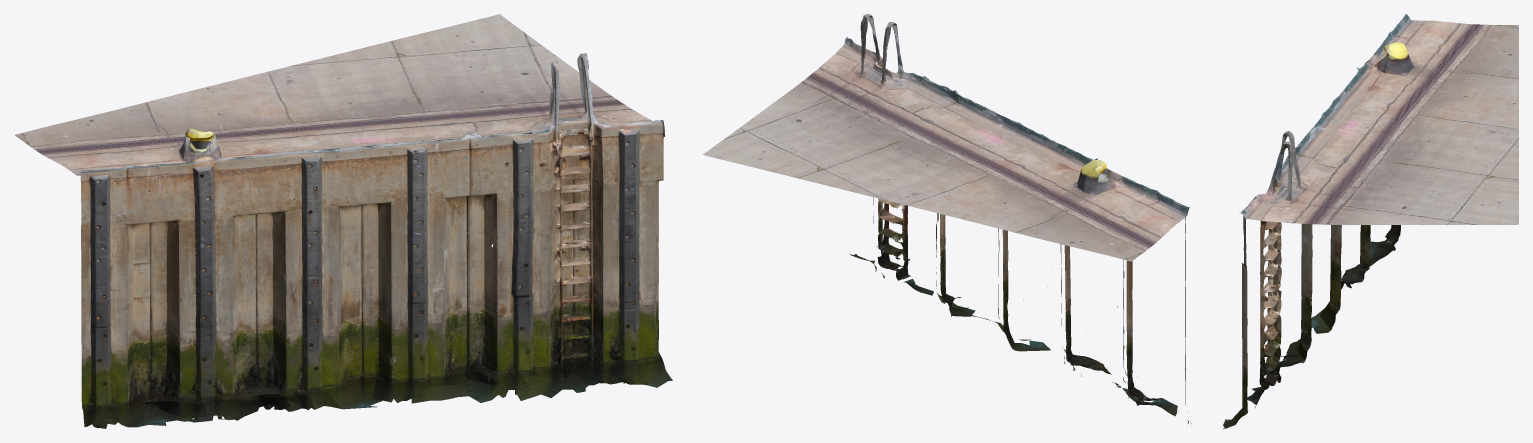
The picture shows the model from 3 angles, left to right: view 1: azimuth 30°, elevation 25°; view 2: azimuth 150°, elevation 25°; view 3: azimuth 270°, elevation 25°; orthographic projection. The views are drawn at different scales.
Bounding box in the file's own units: 8.36 × 5.18 × 5.18.
Materials: 3 (3 with a texture image).
